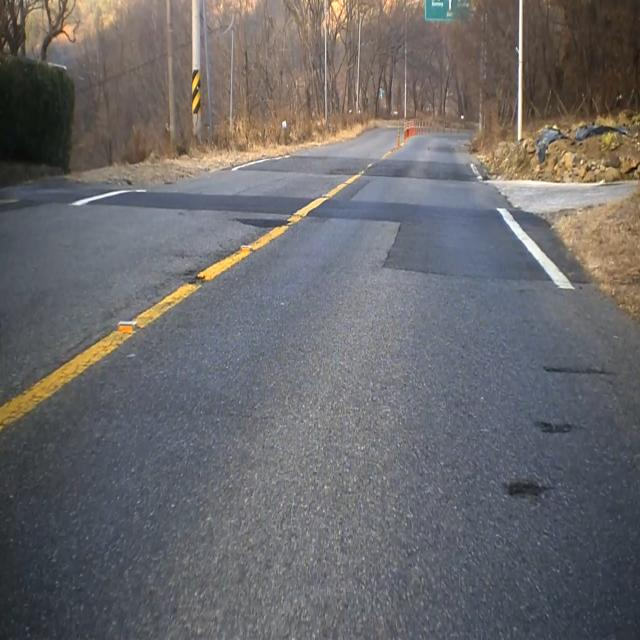Pothole: (542, 358, 618, 386), (227, 210, 295, 241), (502, 470, 554, 508), (532, 407, 579, 447), (180, 260, 207, 290)
